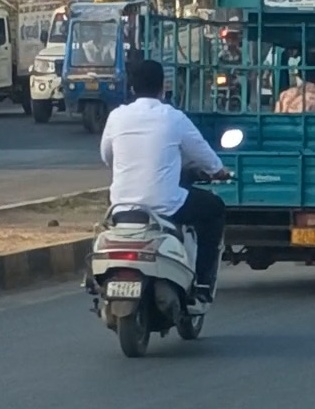BikeWithRider: (74, 53, 248, 362)
NoHelmet: (123, 54, 171, 107)
